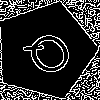Q: (20, 25, 84, 88)
